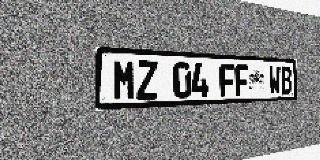0: (173, 62, 191, 99)
4: (192, 63, 209, 98)
B: (281, 66, 292, 94)
F: (220, 64, 235, 97), (235, 64, 249, 96)
M: (113, 59, 136, 101)
W: (269, 66, 281, 95)
Z: (136, 60, 158, 100)
